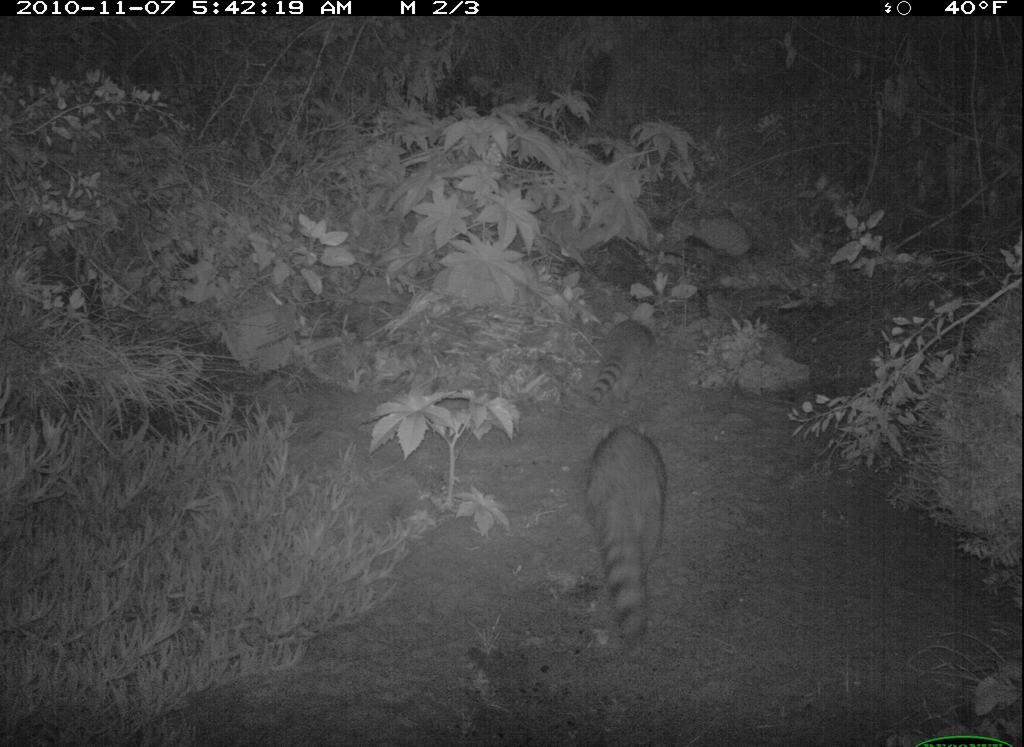raccoon: (574, 423, 673, 662), (578, 305, 669, 415)
